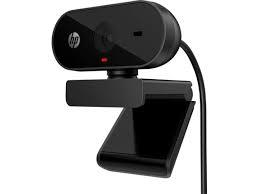webcam: (52, 1, 201, 176)
